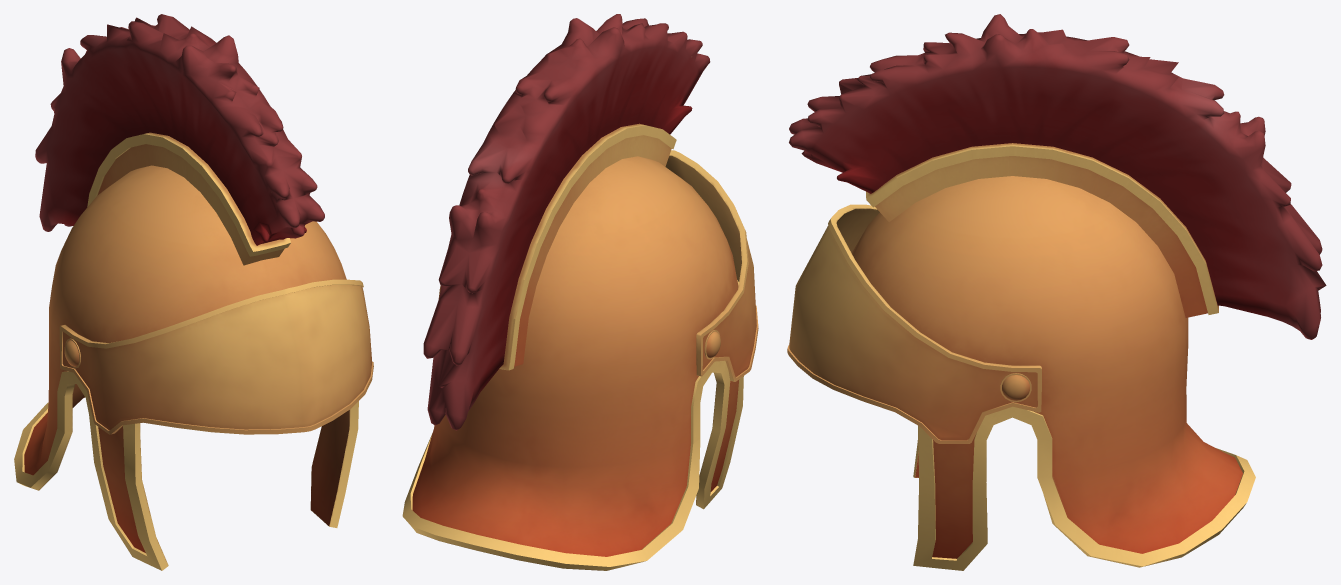
Rendered from RomanHelmet.FBX.
The picture shows the model from 3 angles, left to right: view 1: azimuth 30°, elevation 25°; view 2: azimuth 150°, elevation 25°; view 3: azimuth 270°, elevation 25°; orthographic projection. The views are drawn at different scales.
Visible parts, largest first — view 1: RomanHelmet; view 2: RomanHelmet; view 3: RomanHelmet.
Part boxes in pixels (x1,y1,x2,y2): RomanHelmet: [14, 14, 373, 570]; RomanHelmet: [402, 14, 758, 570]; RomanHelmet: [787, 14, 1326, 570].
Bounding box in the file's own units: 36.25 × 62.32 × 61.02.
Materials: 1 (1 with a texture image).
